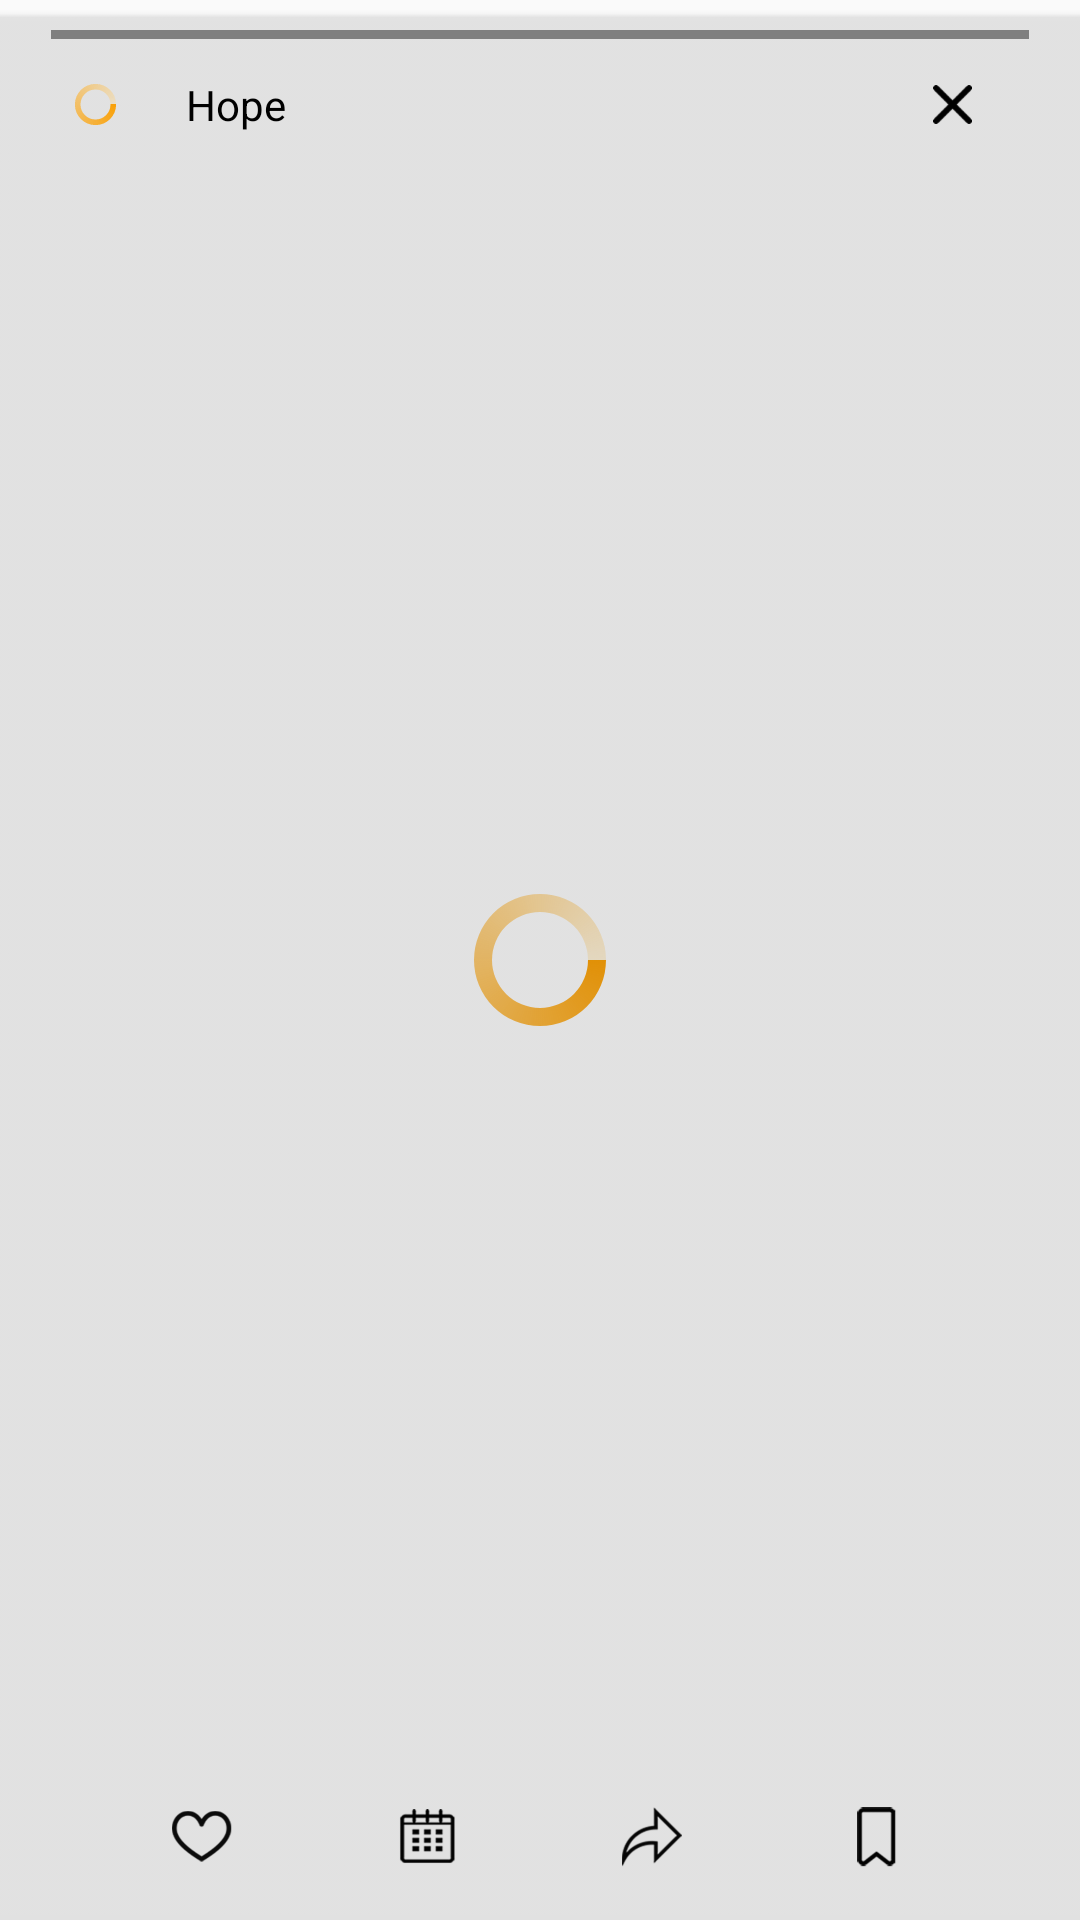

Icons on this 1080×1920 Android screen, each with its box as bbox(x1, y1, x2, y2):
arival cross: bbox(933, 85, 972, 124)
story bookmark: bbox(857, 1807, 896, 1867)
story like: bbox(172, 1811, 232, 1862)
story schedual: bbox(400, 1809, 455, 1863)
story share: bbox(622, 1808, 682, 1866)
